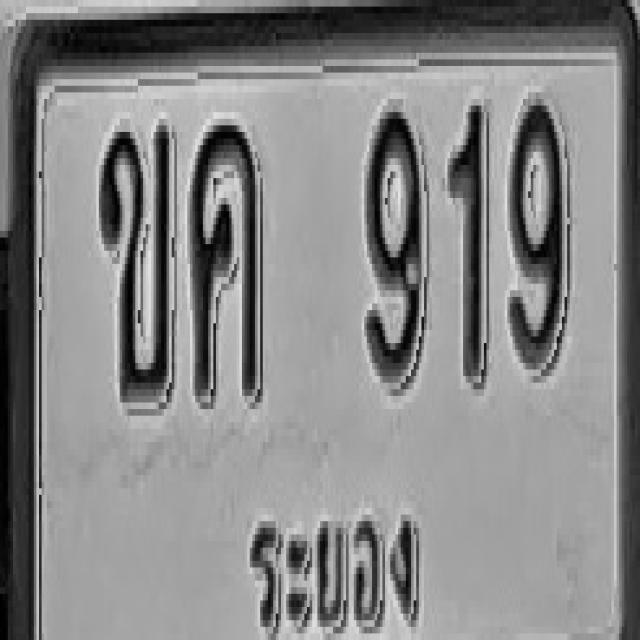1: (448, 99, 487, 383)
11KhorKhai: (99, 122, 172, 399)
13KhorKhwai: (190, 119, 263, 396)
9: (508, 99, 566, 369), (366, 105, 422, 382)
Rayong: (238, 499, 428, 640)
